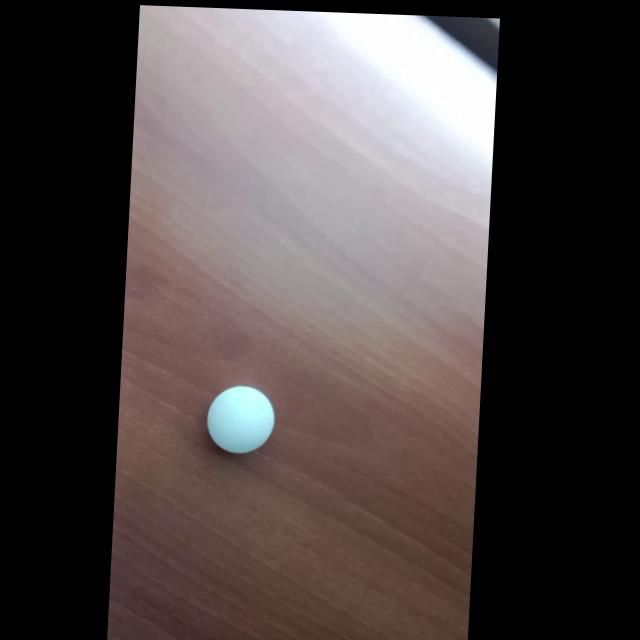white ball: (205, 384, 277, 455)
